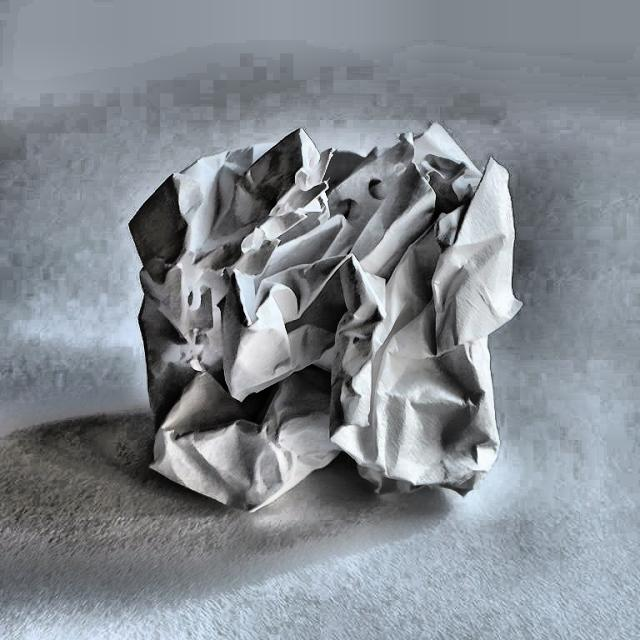Paper: (118, 111, 536, 525)
